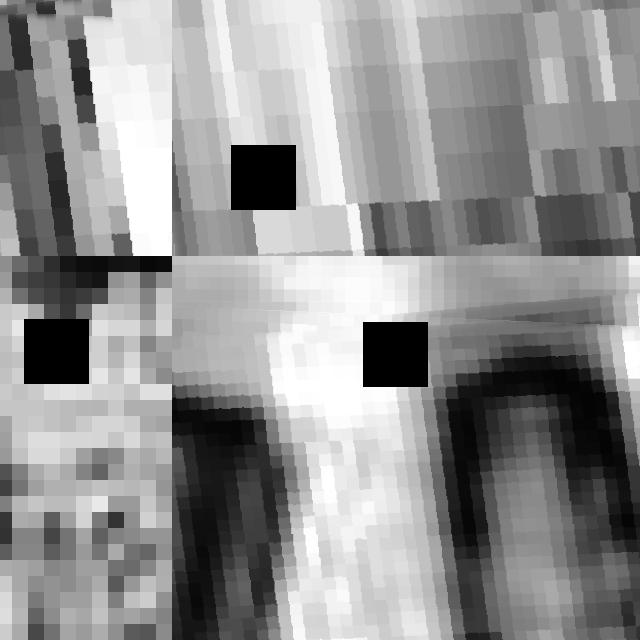arms: (172, 301, 640, 640), (172, 0, 640, 256), (0, 256, 172, 640), (444, 339, 640, 640), (172, 256, 604, 375), (0, 0, 172, 256)
